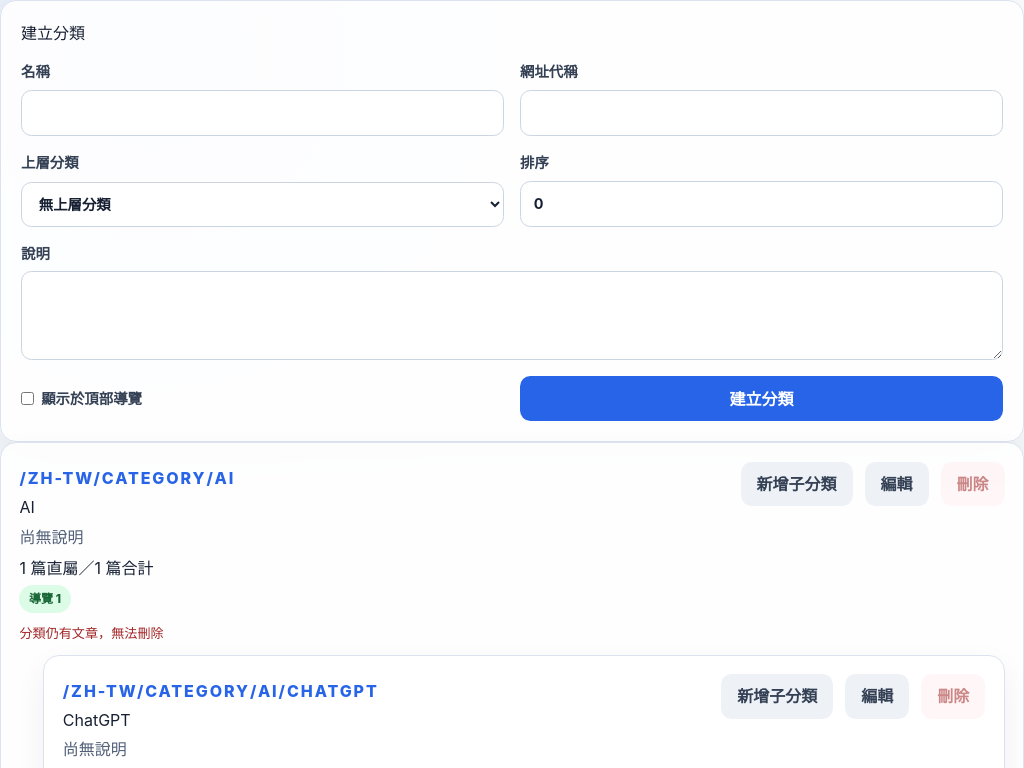
it: CategoryManager › preselects a category when adding its child
The width and height of the screenshot is (1024, 768).
Expected: the form "建立分類" is shown, [0,0,1023,442]
Click the button with aria-label "新增 AI 的子分類" at (797, 484), box [741,462,853,506]
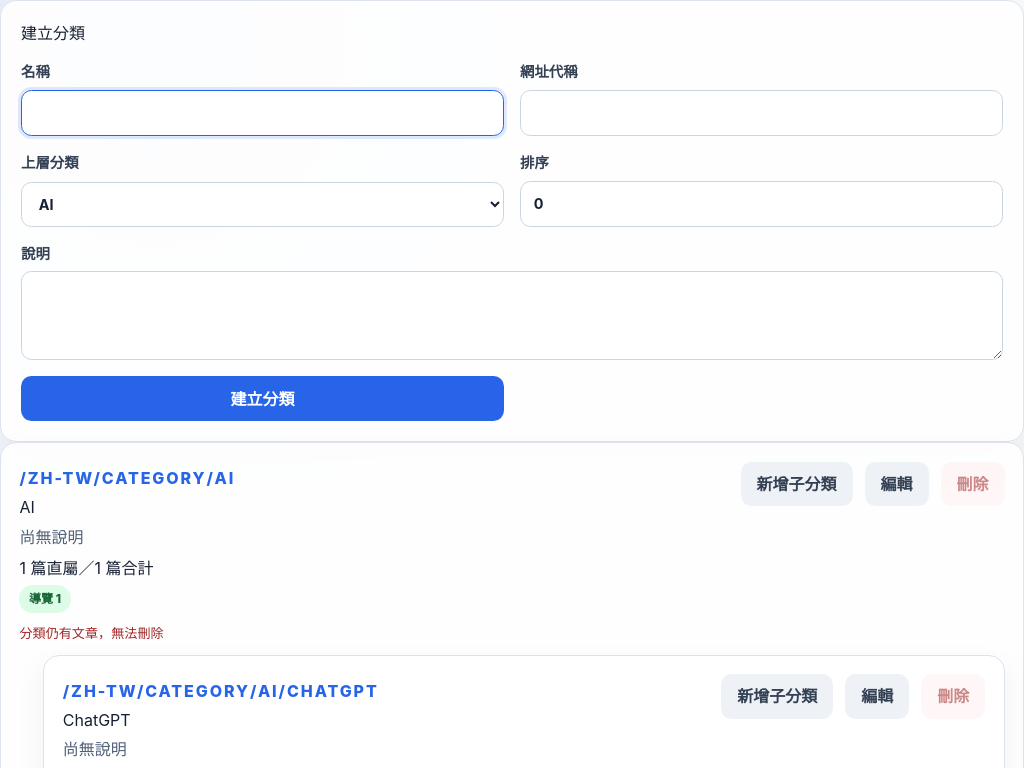
Expected: the dropdown labelled "上層分類" shows "AI", [21,182,504,226]
